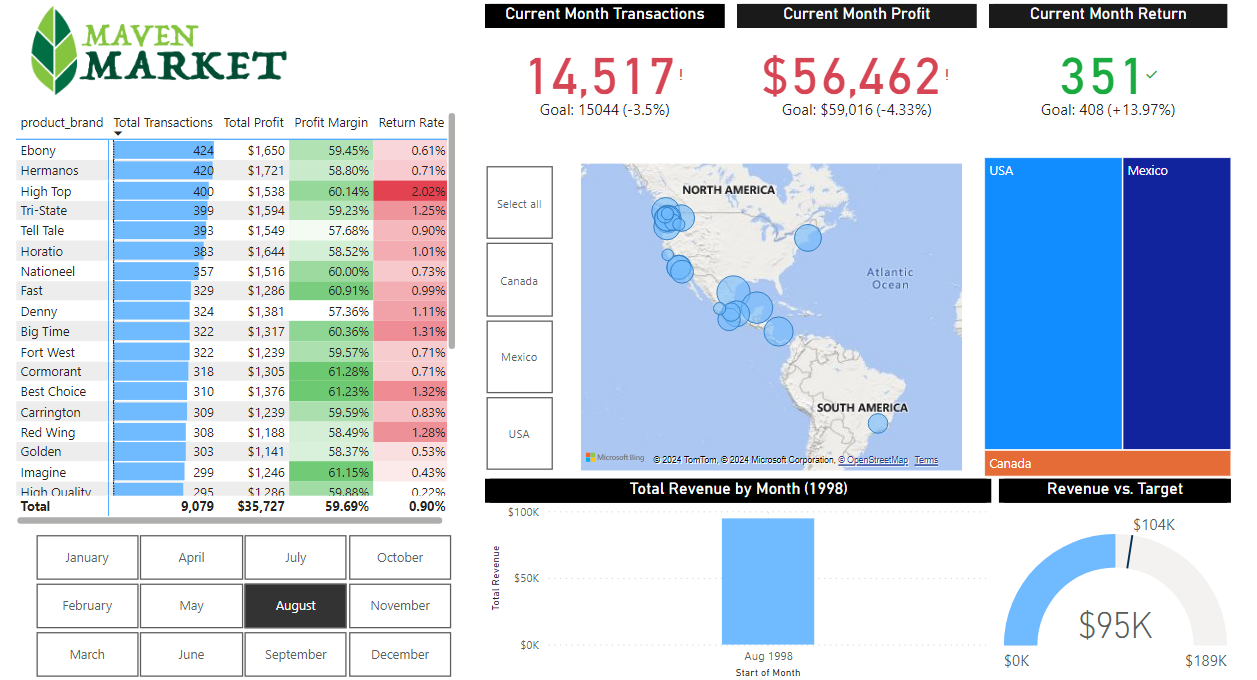

The dashboard page shown, as its layout file describes it:
{"tool":"powerbi","page":{"name":"Topline Performance","canvas":[1280,720],"ordinal":0},"visuals":[{"type":"image","box":[0,0,306.2,117.3],"z":0},{"type":"pivotTable","fields":{"Values":["Measure Table.Total Transactions","Measure Table.Total Profit","Measure Table.Profit Margin","Measure Table.Return Rate"],"Rows":["Products.product_brand"]},"box":[0,117.3,470.4,442],"z":1000},{"type":"kpi","title":"Current Month Transactions","fields":{"Indicator":["Measure Table.Total Transactions"],"TrendLine":["Calendar.Start of Month"],"Goal":["Measure Table.Last Month Transaction"]},"box":[495.1,9.9,250.6,150.6],"z":2000},{"type":"kpi","title":"Current Month Profit","fields":{"TrendLine":["Calendar.Start of Month"],"Indicator":["Measure Table.Total Profit"],"Goal":["Measure Table.Last Month Profit"]},"box":[758.6,9.9,250.6,150.6],"z":3000},{"type":"kpi","title":"Current Month Return","fields":{"TrendLine":["Calendar.Start of Month"],"Indicator":["Measure Table.Total Returns"],"Goal":["Measure Table.Last Month Returns"]},"box":[1022.2,9.9,249.4,150.6],"z":4000},{"type":"treemap","fields":{"Group":["Stores.store_country","Stores.store_state","Stores.store_city"],"Values":["Measure Table.Total Transactions"]},"box":[1011.6,165.2,268.1,343.5],"z":5000},{"type":"slicer","fields":{"Values":["Stores.store_country"]},"box":[470.4,172.8,119.8,330.9],"z":6000},{"type":"lineStackedColumnComboChart","title":"Total Revenue by Month (1998)","fields":{"Y":["Measure Table.Total Revenue"],"Category":["Calendar.Start of Month"]},"box":[495.1,506.2,529.6,213.6],"z":7000},{"type":"gauge","title":"Revenue vs. Target","fields":{"Y":["Measure Table.Total Revenue"],"TargetValue":["Measure Table.Revenue Target"]},"box":[1032.1,506.2,243.2,213.6],"z":8000},{"type":"map","fields":{"Size":["Measure Table.Total Transactions"],"Category":["Stores.store_city"]},"box":[590.1,171.6,408.6,332.1],"z":9000},{"type":"slicer","fields":{"Values":["Calendar.date.Variation.Date Hierarchy.Month"]},"box":[0,559,484,161],"z":9001}]}

Visuals, with their boxes on the page's 1280x720 design canvas (x1, y1, x2, y2). These are canvas units, not pixel positions in the 1257x680 screenshot, which may show the page scaled, cropped or inside an application window:
image: rect(0, 0, 306, 117)
pivotTable - Measure Table.Total Transactions x Measure Table.Total Profit: rect(0, 117, 470, 559)
"Current Month Transactions" kpi: rect(495, 10, 746, 160)
"Current Month Profit" kpi: rect(759, 10, 1009, 160)
"Current Month Return" kpi: rect(1022, 10, 1272, 160)
treemap - Stores.store_country x Stores.store_state: rect(1012, 165, 1280, 509)
slicer - Stores.store_country: rect(470, 173, 590, 504)
"Total Revenue by Month (1998)" lineStackedColumnComboChart: rect(495, 506, 1025, 720)
"Revenue vs. Target" gauge: rect(1032, 506, 1275, 720)
map - Measure Table.Total Transactions x Stores.store_city: rect(590, 172, 999, 504)
slicer - Calendar.date.Variation.Date Hierarchy.Month: rect(0, 559, 484, 720)
